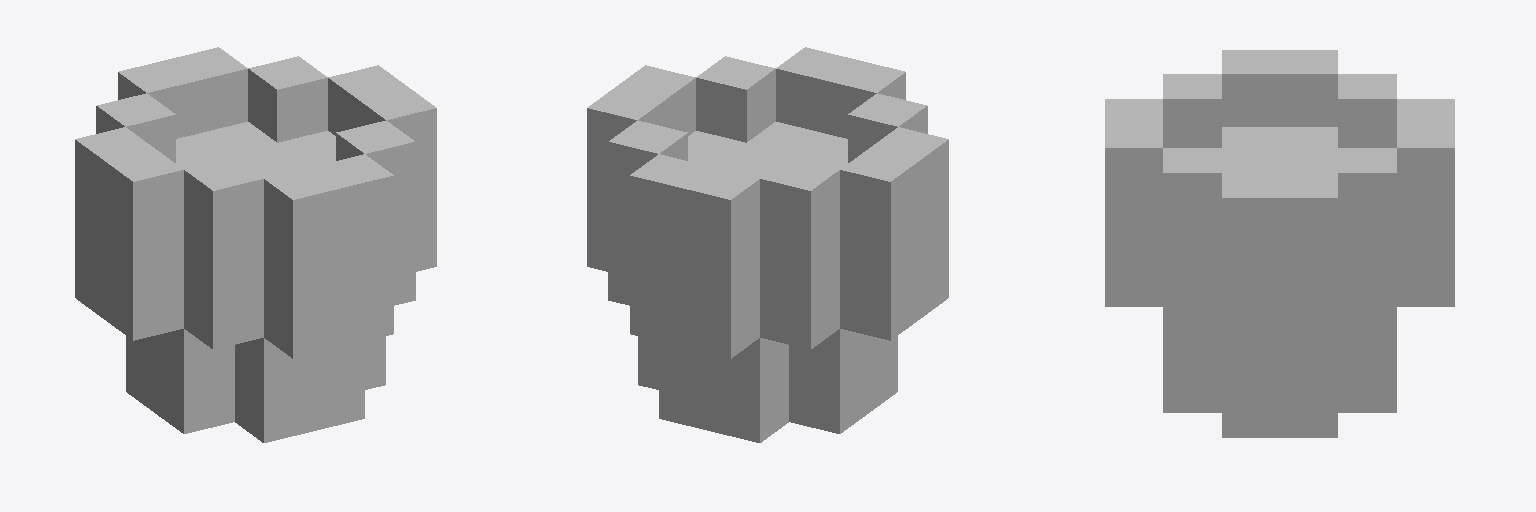
The model's file is cooking_mortar_fill.obj.
The picture shows the model from 3 angles: view 1: azimuth 30°, elevation 25°; view 2: azimuth 150°, elevation 25°; view 3: azimuth 270°, elevation 25°; orthographic projection.
Visible parts, largest first — view 1: node_0_0_0, node_0_0_0.002; view 2: node_0_0_0, node_0_0_0.002; view 3: node_0_0_0, node_0_0_0.002.
Boxes of the visible parts, x1,y1,x2,y2 form: node_0_0_0: [75, 47, 436, 442]; node_0_0_0.002: [176, 122, 335, 178]; node_0_0_0: [587, 47, 948, 442]; node_0_0_0.002: [688, 122, 847, 178]; node_0_0_0: [1105, 50, 1454, 437]; node_0_0_0.002: [1222, 127, 1337, 172].
Size of the model in its own units: 0.375 by 0.3125 by 0.375.